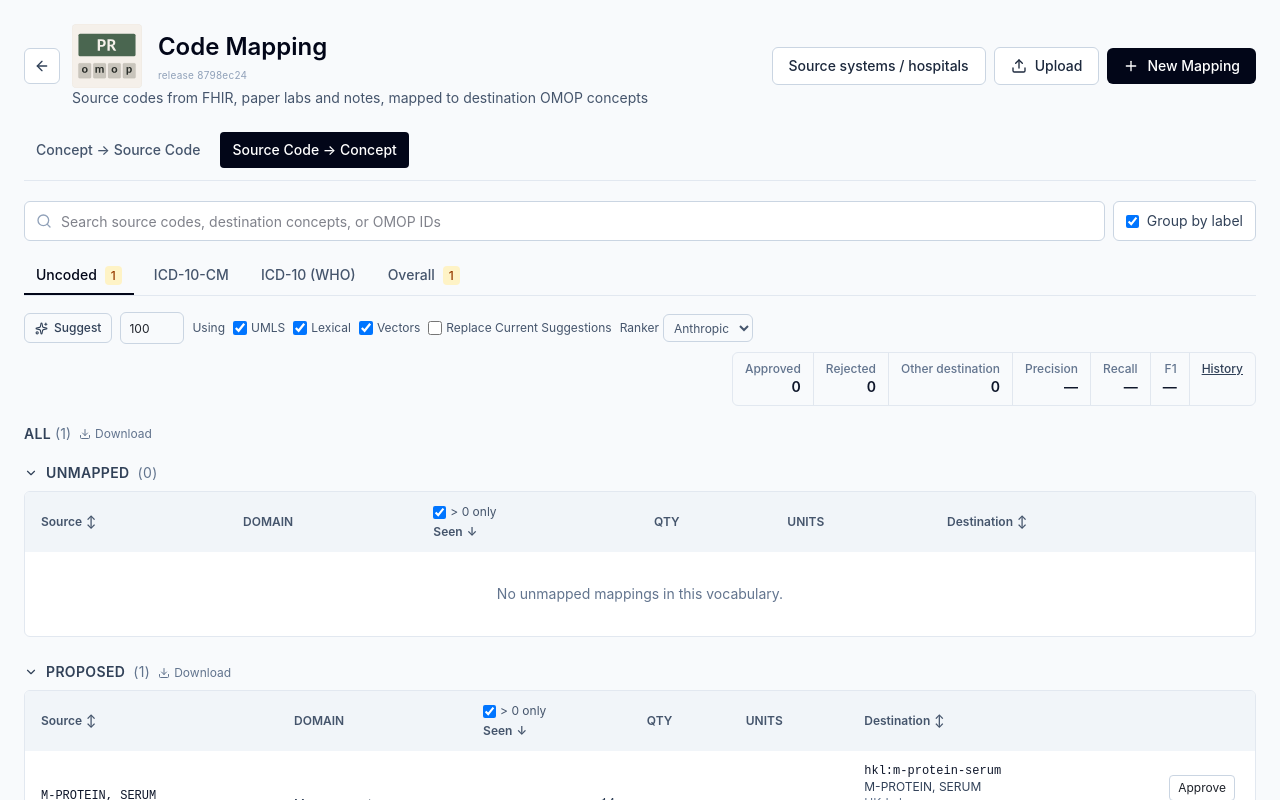
Test case: CodeMappingPage › shows the exact Athena duplicate error when table approval is blocked
The image size is (1280, 800).
Click the button with aria-label "Approve M-PROTEIN, SERUM". click: (1202, 788)
box: [1169, 775, 1235, 799]
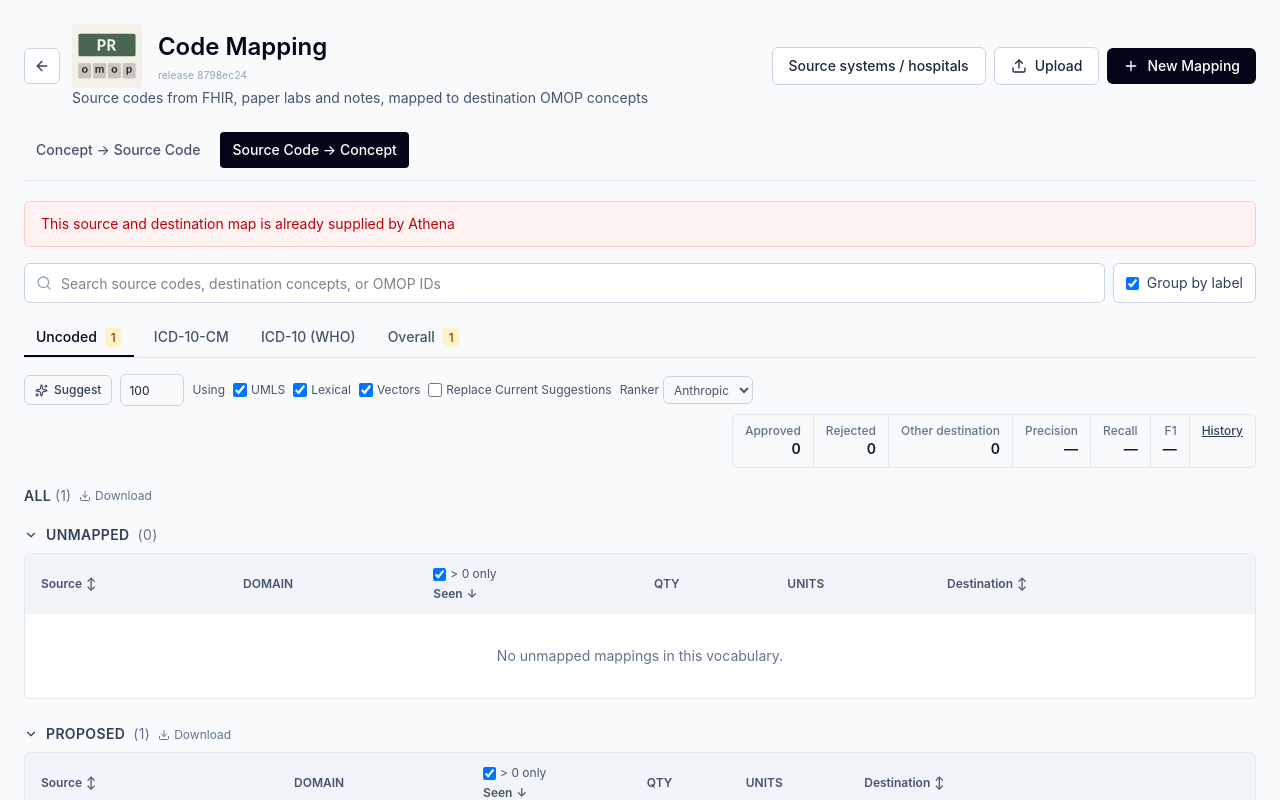
Check: the message reads "This source and destination map is already supplied by Athena", box [41, 215, 455, 232]
